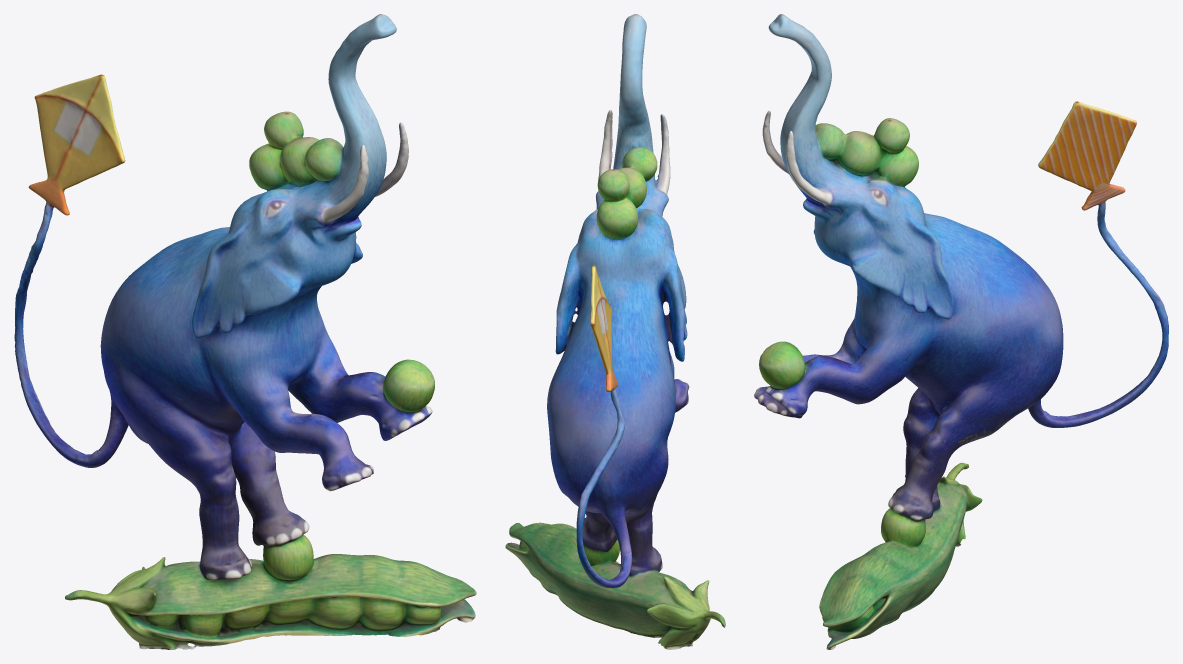
Rendered from sugandh-meri-patang.glb.
3 views of the same model, side by side, from view 1: azimuth 30°, elevation 25°; view 2: azimuth 150°, elevation 25°; view 3: azimuth 270°, elevation 25° (orthographic). The views are drawn at different scales.
Visible parts, largest first — view 1: Mesh; view 2: Mesh; view 3: Mesh.
Boxes of the visible parts, box(x1,y1,x2,y2) form: Mesh: box(14, 14, 476, 649); Mesh: box(505, 14, 725, 649); Mesh: box(754, 14, 1168, 649).
Size of the model in its own units: 23.35 by 44.18 by 28.19.
Materials: 1 (1 with a texture image).
